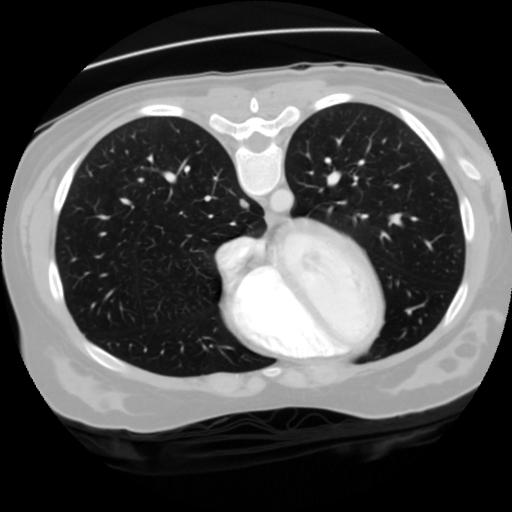nodule: (234, 197, 252, 215)
